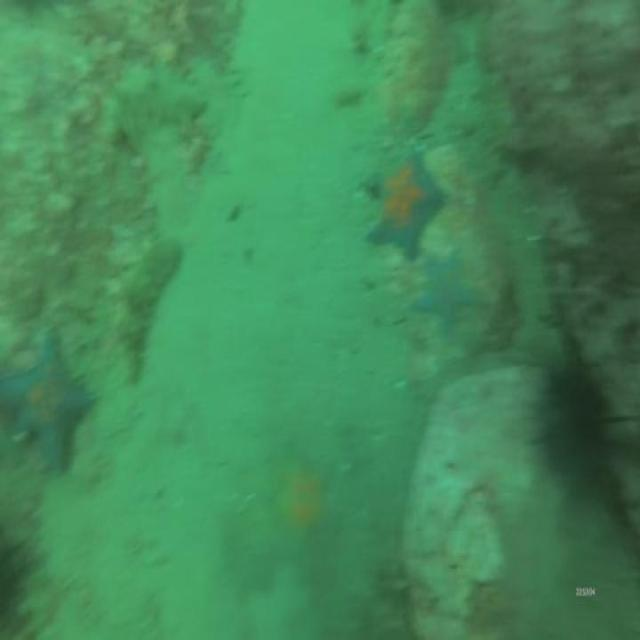echinus: (542, 367, 604, 471)
holothurian: (114, 240, 176, 379), (113, 76, 202, 133)
starfish: (1, 329, 91, 469), (363, 153, 446, 256), (276, 468, 332, 559), (414, 248, 470, 329)
